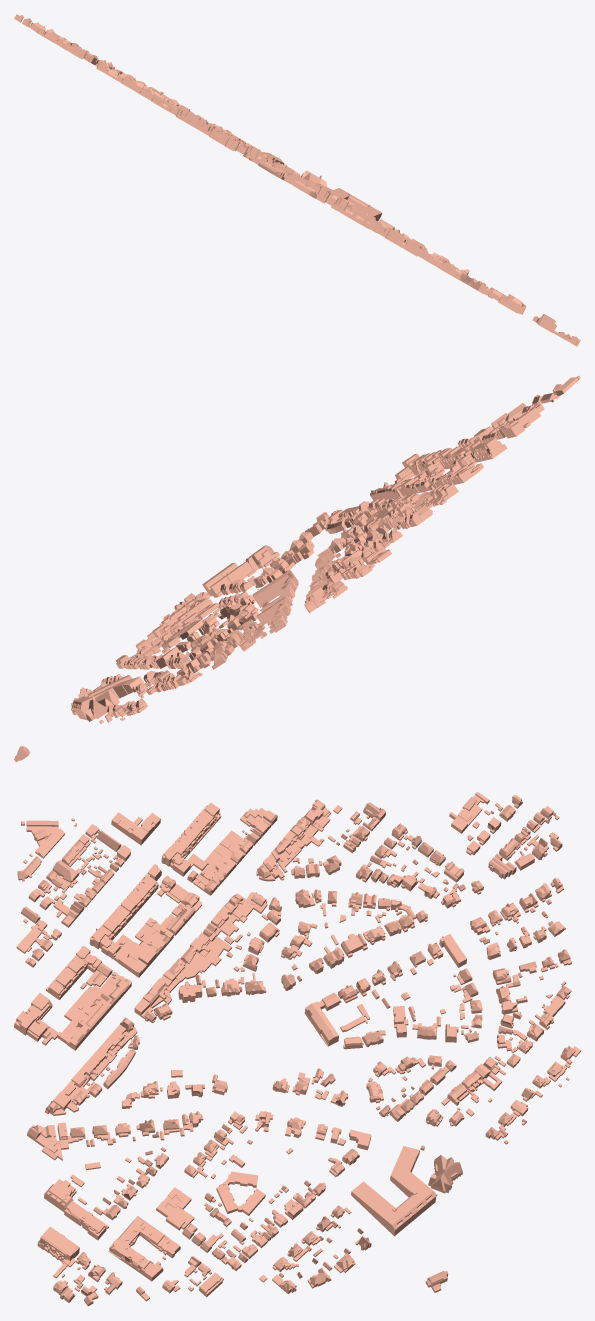
3 views of the same model, one above another, from view 1: azimuth 30°, elevation 25°; view 2: azimuth 150°, elevation 25°; view 3: azimuth 270°, elevation 25° (orthographic). The views are drawn at different scales.
Size of the model in its own units: 533 by 390 by 629.
